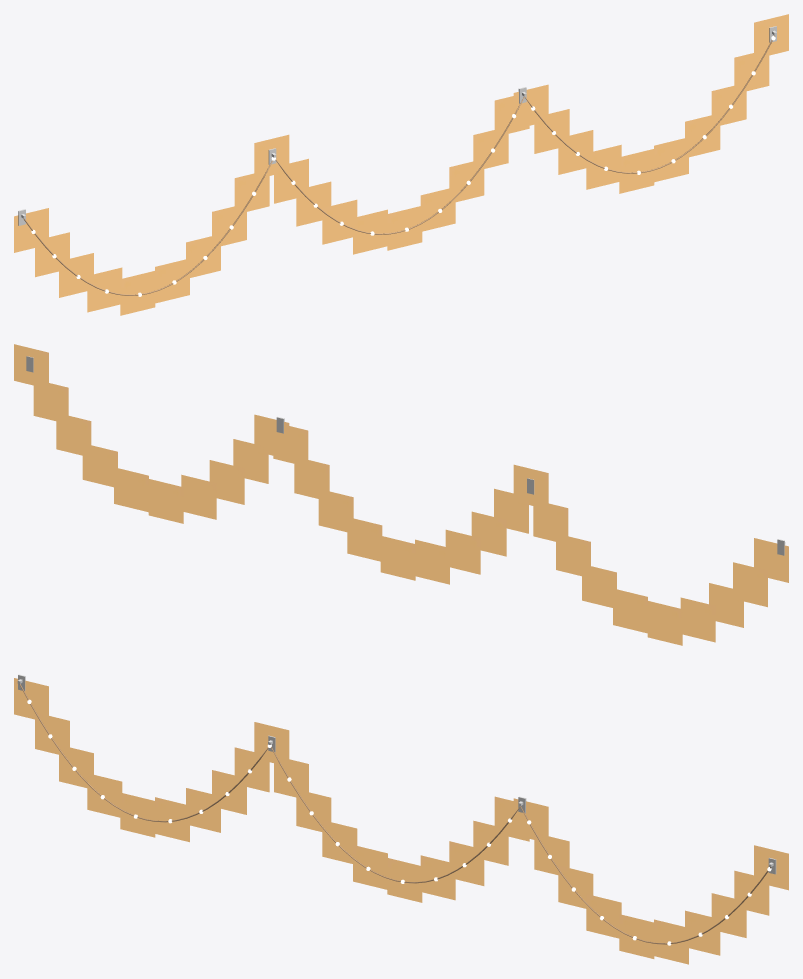
File: obj-fairy-lights-warm.glb
3 renders of one model, top to bottom at view 1: azimuth 30°, elevation 25°; view 2: azimuth 150°, elevation 25°; view 3: azimuth 330°, elevation 25°, orthographic.
Parts seen in each view (by area): view 1: obj-fairy-lights-warm; view 2: obj-fairy-lights-warm; view 3: obj-fairy-lights-warm.
Part boxes in pixels (left/top/right/bottom): obj-fairy-lights-warm: left=14, top=14, right=788, bottom=315; obj-fairy-lights-warm: left=14, top=344, right=788, bottom=645; obj-fairy-lights-warm: left=14, top=674, right=788, bottom=964.
Bounding box in the file's own units: 1.55 × 0.2676 × 0.0119.
4 materials, 1 textured.
